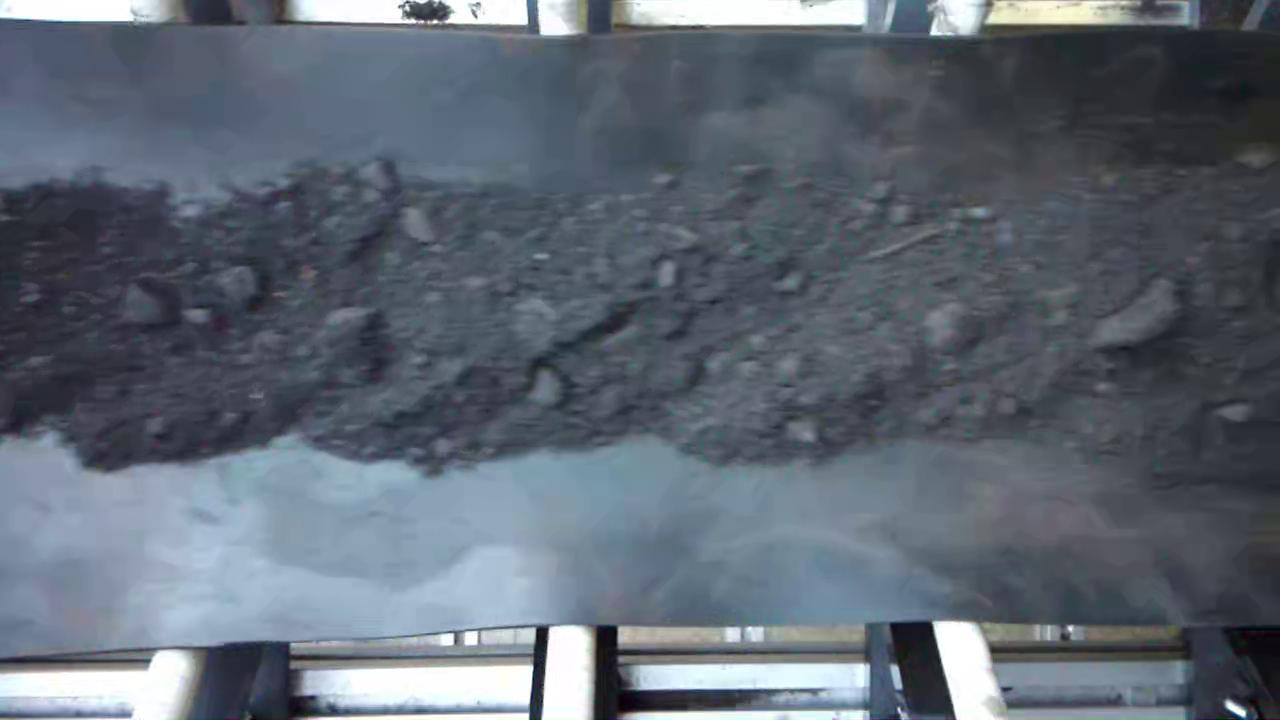conveyor: (3, 35, 1280, 621)
